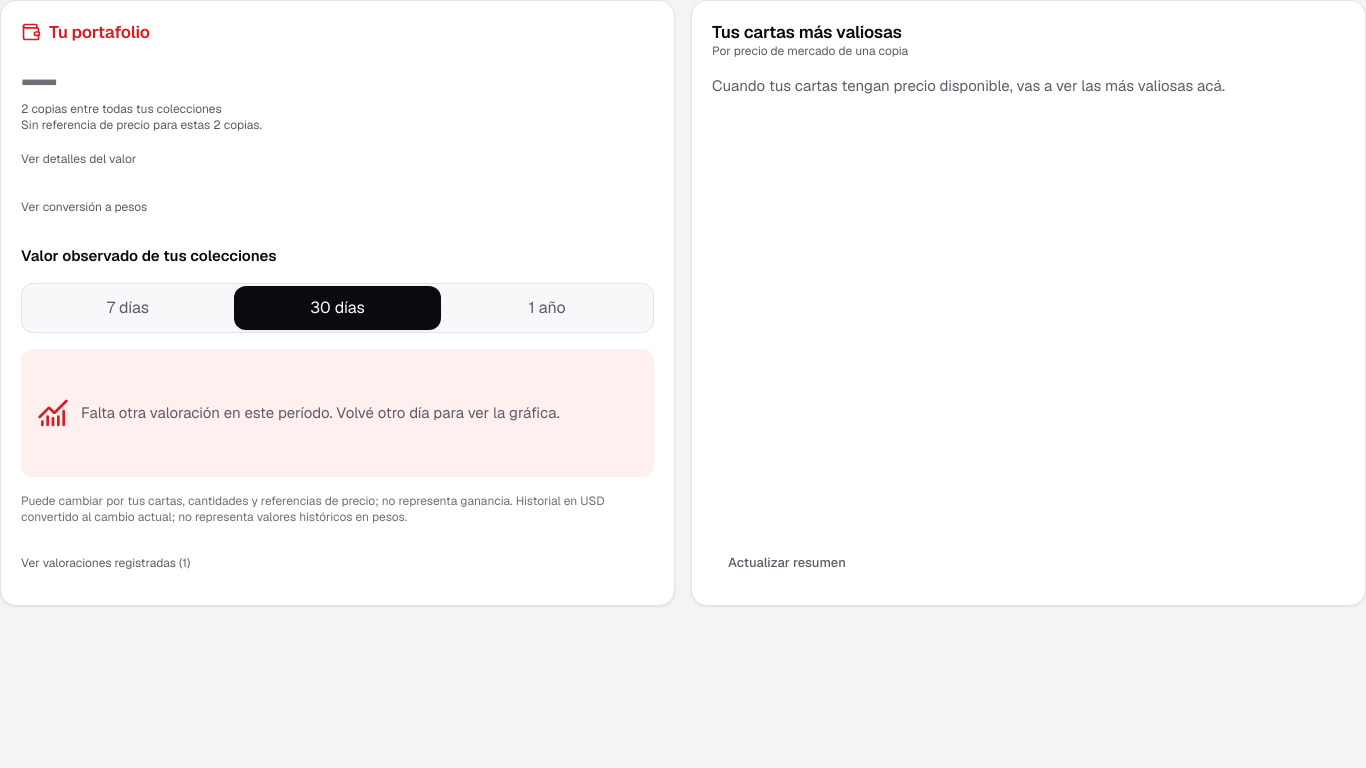
it: la observación histórica conserva su cobertura y aclara conversión ARS actual
The width and height of the screenshot is (1366, 768).
Step 1. Click the heading "Ver valoraciones registradas (1)" → (106, 563), box [21, 555, 190, 571]
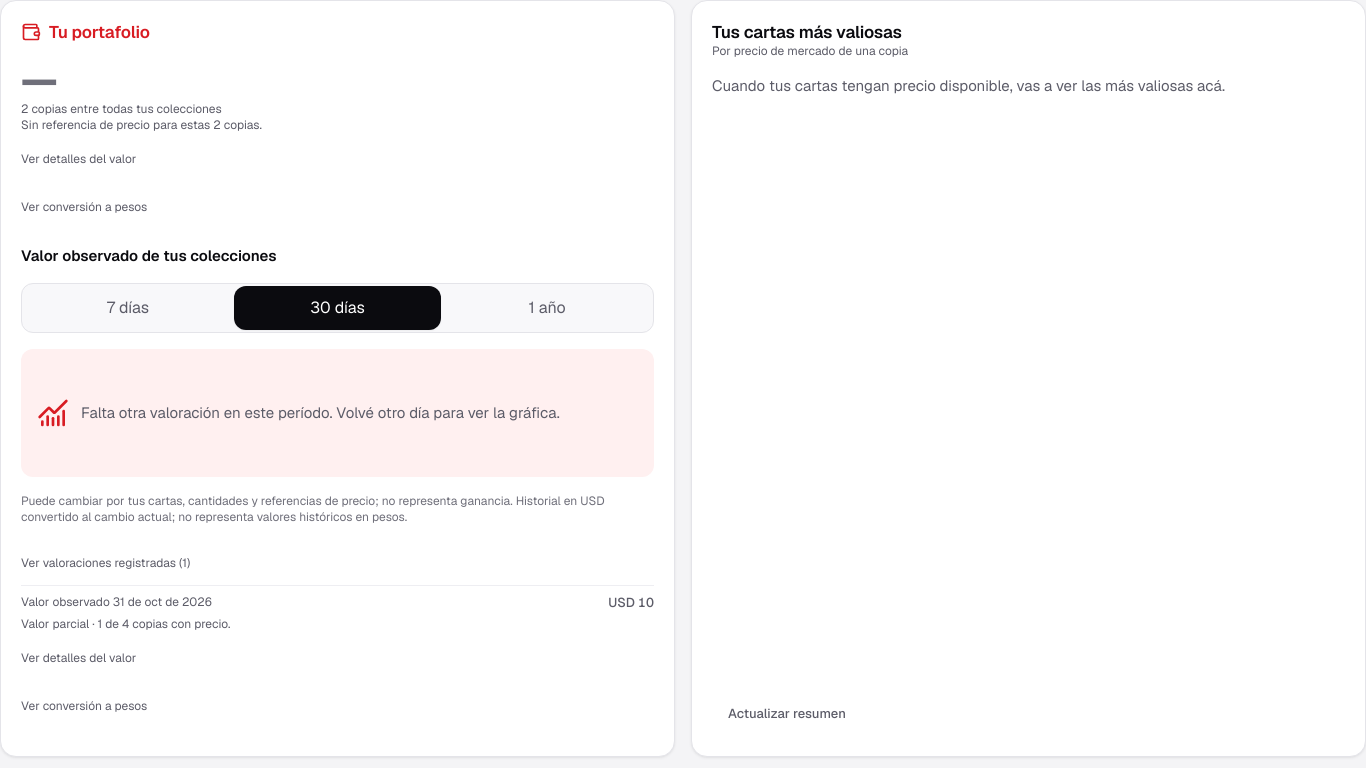
Expected: the text "Historial en USD convertido al cambio actual" is shown, [21, 493, 605, 525]
Now the text "Valor parcial · 1 de 4 copias con precio." is shown, box [21, 616, 230, 632]
